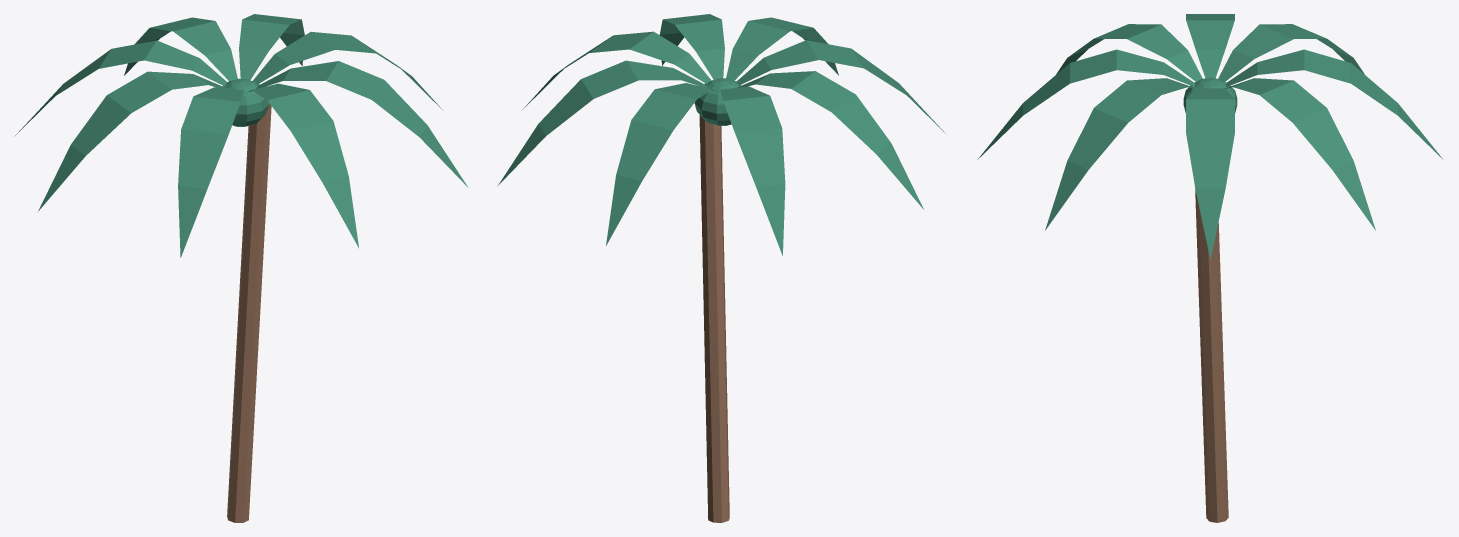
The model's file is royalPalm.obj.
3 renders of one model, left to right at view 1: azimuth 30°, elevation 25°; view 2: azimuth 150°, elevation 25°; view 3: azimuth 270°, elevation 25°, orthographic.
Visible parts, largest first — view 1: royalPalm; view 2: royalPalm; view 3: royalPalm.
Part boxes in pixels (x1,y1,x2,y2): royalPalm: (14, 14, 468, 522); royalPalm: (497, 14, 945, 522); royalPalm: (977, 14, 1443, 522).
Bounding box in the file's own units: 10 × 10.8 × 10.
